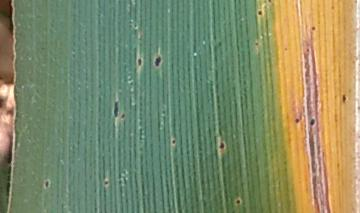tarspot: (152, 53, 164, 69), (216, 138, 226, 153), (114, 94, 119, 122), (136, 55, 145, 70), (42, 178, 52, 190), (309, 114, 317, 128), (255, 8, 265, 18), (103, 178, 110, 190), (341, 91, 348, 103), (120, 111, 129, 120), (234, 197, 243, 206), (310, 24, 319, 33), (171, 136, 177, 147), (294, 115, 300, 126), (304, 46, 311, 54), (255, 41, 260, 50), (266, 1, 276, 4)
